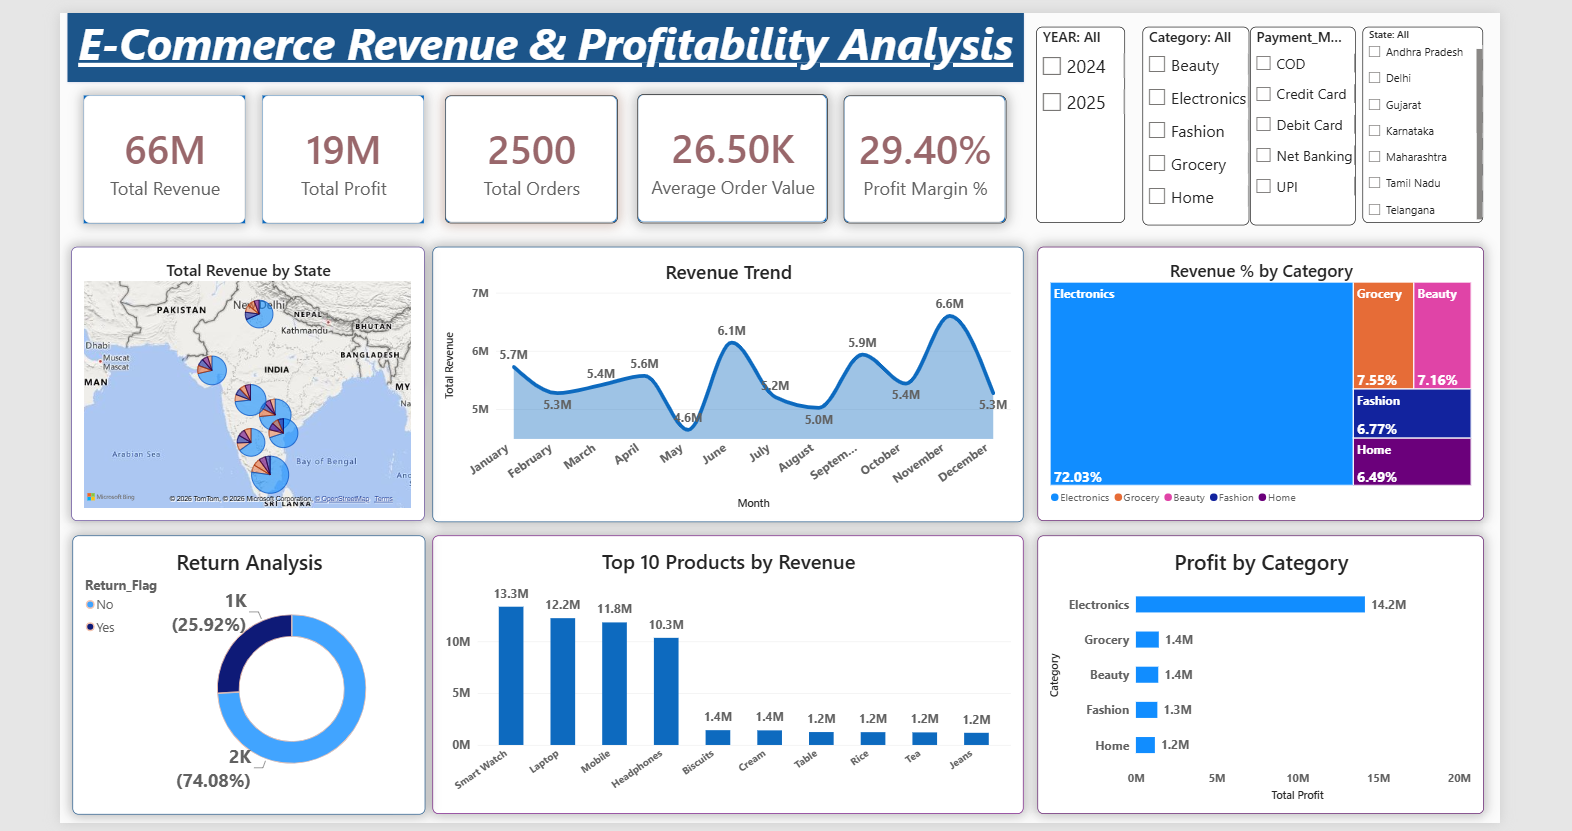

The page's visual inventory and layout, read from the dashboard file:
{"tool":"powerbi","page":{"name":"Page 1","canvas":[1920,1080],"ordinal":0},"visuals":[{"type":"textbox","box":[10,0,1275,91.7],"z":0},{"type":"textbox","box":[10,356.5,214,161],"z":1000},{"type":"cardVisual","fields":{"Data":["E-Commerce Data.Total Revenue"]},"box":[246.7,330,230,171.7],"z":2000},{"type":"cardVisual","fields":{"Data":["E-Commerce Data.Total Profit"]},"box":[270,110,215,170],"z":3000},{"type":"cardVisual","fields":{"Data":["E-Commerce Data.Total Orders"]},"box":[513.3,110,230,170],"z":4000},{"type":"cardVisual","fields":{"Data":["E-Commerce Data.Average Order Value"]},"box":[770,108.3,253.3,171.7],"z":5000},{"type":"cardVisual","fields":{"Data":["E-Commerce Data.Profit Margin %"]},"box":[1045,110,216.7,170],"z":6000},{"type":"slicer","fields":{"Values":["E-Commerce Data.YEAR"]},"box":[1301.7,18.3,118.3,261.7],"z":7000},{"type":"slicer","fields":{"Values":["E-Commerce Data.State"]},"box":[1736.9,18.4,160.8,261.3],"z":8000},{"type":"slicer","fields":{"Values":["E-Commerce Data.Category"]},"box":[1443.8,18.4,142.4,264.6],"z":9000},{"type":"slicer","fields":{"Values":["E-Commerce Data.Payment_Method"]},"box":[1586.2,18.4,140.7,264.6],"z":10000},{"type":"lineChart","title":"Revenue Trend","fields":{"Category":["E-Commerce Data.Order_Date.Variation.Date Hierarchy.Month"],"Y":["E-Commerce Data.Total Revenue"]},"box":[497.4,312.4,788.1,366.8],"z":11000},{"type":"treemap","title":"Revenue % by Category","fields":{"Group":["E-Commerce Data.Category"],"Values":["E-Commerce Data.Revenue %"]},"box":[1302.6,312.4,595.3,365.3],"z":12000},{"type":"barChart","title":"Profit by Category","fields":{"Category":["E-Commerce Data.Category"],"Y":["E-Commerce Data.Total Profit"]},"box":[1302.6,696.4,595.3,371.5],"z":13000},{"type":"map","title":"Total Revenue by State","fields":{"Category":["E-Commerce Data.State"],"Series":["E-Commerce Data.Category"],"Size":["E-Commerce Data.Total Revenue"]},"box":[15.5,312.4,471,365.3],"z":14000},{"type":"lineStackedColumnComboChart","title":"Top 10 Products by Revenue","fields":{"Category":["E-Commerce Data.Product"],"Y":["E-Commerce Data.Total Revenue"]},"box":[497.4,696.4,788.1,371.5],"z":15000},{"type":"donutChart","title":"Return Analysis","fields":{"Category":["E-Commerce Data.Return_Flag"],"Y":["E-Commerce Data.Total Orders"]},"box":[16,696,470,372],"z":16000},{"type":"cardVisual","fields":{"Data":["E-Commerce Data.Total Revenue"]},"box":[31.7,110,215,170],"z":18000}]}

Visuals, with their boxes on the page's 1920x1080 design canvas (x1, y1, x2, y2). These are canvas units, not pixel positions in the 1572x831 screenshot, which may show the page scaled, cropped or inside an application window:
textbox: (x1=10, y1=0, x2=1285, y2=92)
textbox: (x1=10, y1=356, x2=224, y2=518)
cardVisual - E-Commerce Data.Total Revenue: (x1=247, y1=330, x2=477, y2=502)
cardVisual - E-Commerce Data.Total Profit: (x1=270, y1=110, x2=485, y2=280)
cardVisual - E-Commerce Data.Total Orders: (x1=513, y1=110, x2=743, y2=280)
cardVisual - E-Commerce Data.Average Order Value: (x1=770, y1=108, x2=1023, y2=280)
cardVisual - E-Commerce Data.Profit Margin %: (x1=1045, y1=110, x2=1262, y2=280)
slicer - E-Commerce Data.YEAR: (x1=1302, y1=18, x2=1420, y2=280)
slicer - E-Commerce Data.State: (x1=1737, y1=18, x2=1898, y2=280)
slicer - E-Commerce Data.Category: (x1=1444, y1=18, x2=1586, y2=283)
slicer - E-Commerce Data.Payment_Method: (x1=1586, y1=18, x2=1727, y2=283)
"Revenue Trend" lineChart: (x1=497, y1=312, x2=1286, y2=679)
"Revenue % by Category" treemap: (x1=1303, y1=312, x2=1898, y2=678)
"Profit by Category" barChart: (x1=1303, y1=696, x2=1898, y2=1068)
"Total Revenue by State" map: (x1=16, y1=312, x2=486, y2=678)
"Top 10 Products by Revenue" lineStackedColumnComboChart: (x1=497, y1=696, x2=1286, y2=1068)
"Return Analysis" donutChart: (x1=16, y1=696, x2=486, y2=1068)
cardVisual - E-Commerce Data.Total Revenue: (x1=32, y1=110, x2=247, y2=280)
